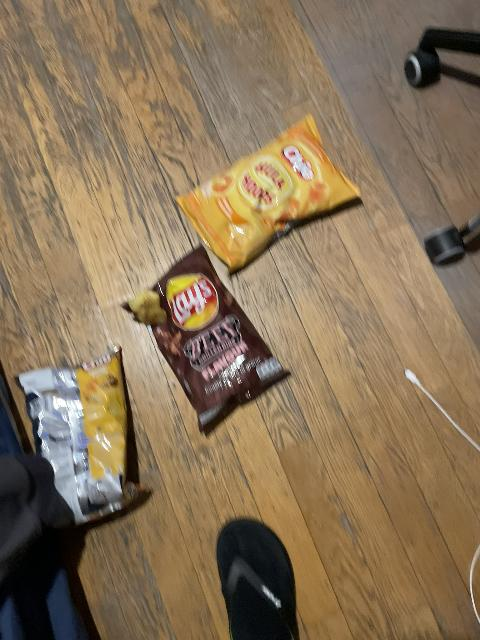Chio Cascaval 125g: (14, 350, 146, 526)
Chio Hula Hoops Cheese 70g: (175, 115, 363, 271)
Lays Beef Grilled Ribs 125g: (128, 250, 298, 424)
